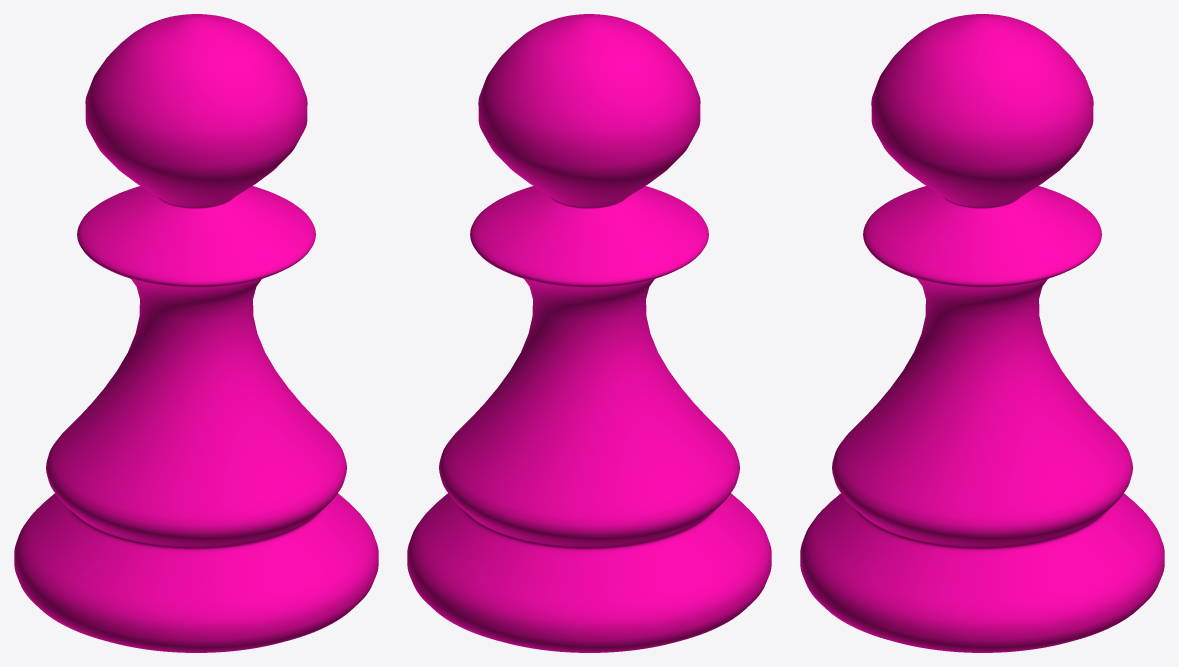
The model's file is Pawn.fbx.
The picture shows the model from 3 angles, left to right: view 1: azimuth 30°, elevation 25°; view 2: azimuth 150°, elevation 25°; view 3: azimuth 270°, elevation 25°; orthographic projection.
Visible parts, largest first — view 1: Pawn; view 2: Pawn; view 3: Pawn.
Boxes of the visible parts, <box> form: Pawn: <box>14,14,378,652</box>; Pawn: <box>407,14,771,652</box>; Pawn: <box>800,14,1164,652</box>.
Size of the model in its own units: 50.57 by 87.74 by 50.57.
